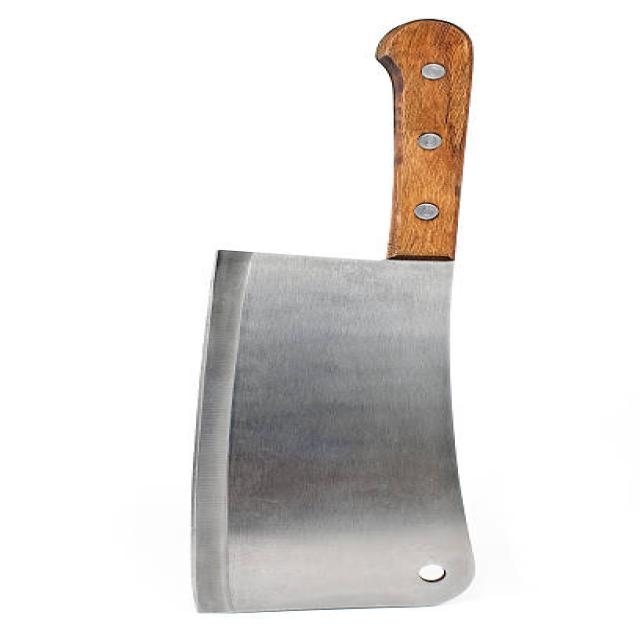knife: (187, 21, 485, 616)
